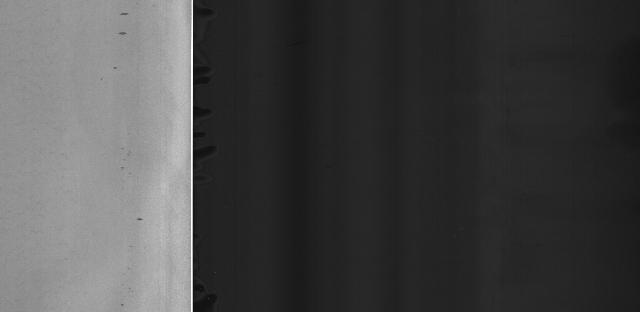oil_spot: (113, 26, 138, 45), (132, 210, 152, 231), (120, 8, 140, 19)
silk_spot: (0, 9, 90, 288)
